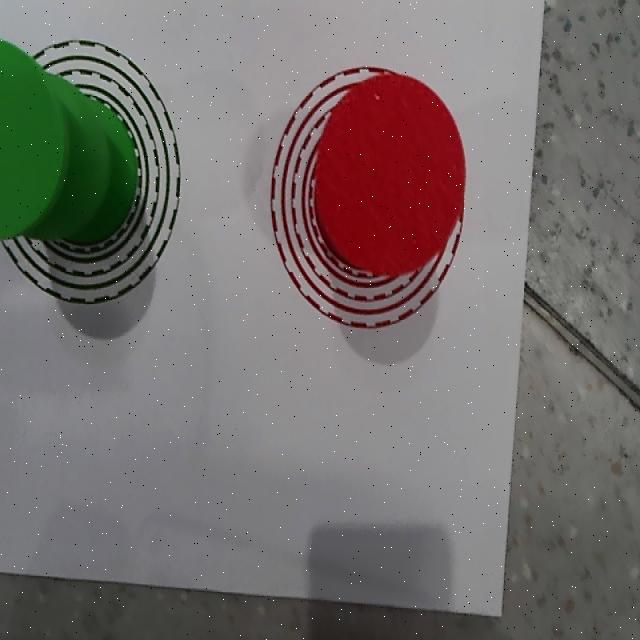r: (316, 74, 466, 275)
